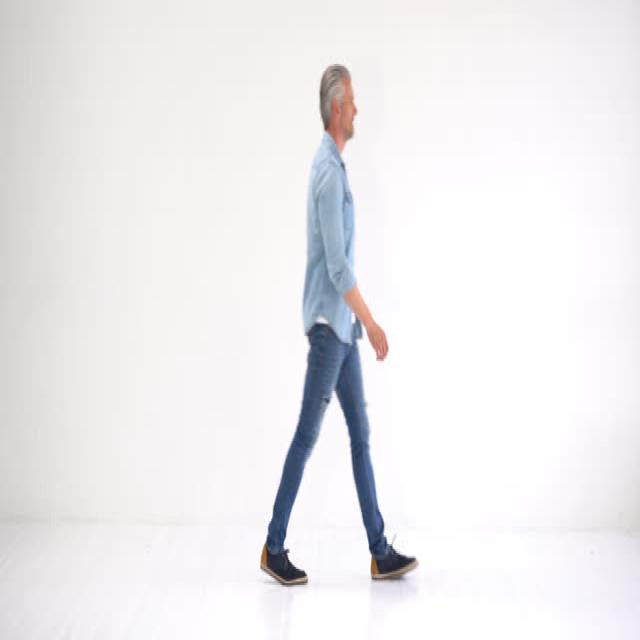Person: (260, 65, 419, 588)
